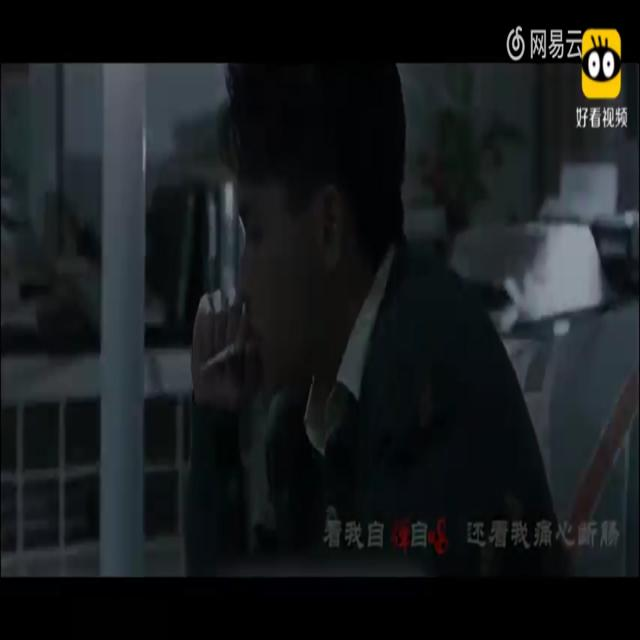smoke: (196, 339, 245, 376)
